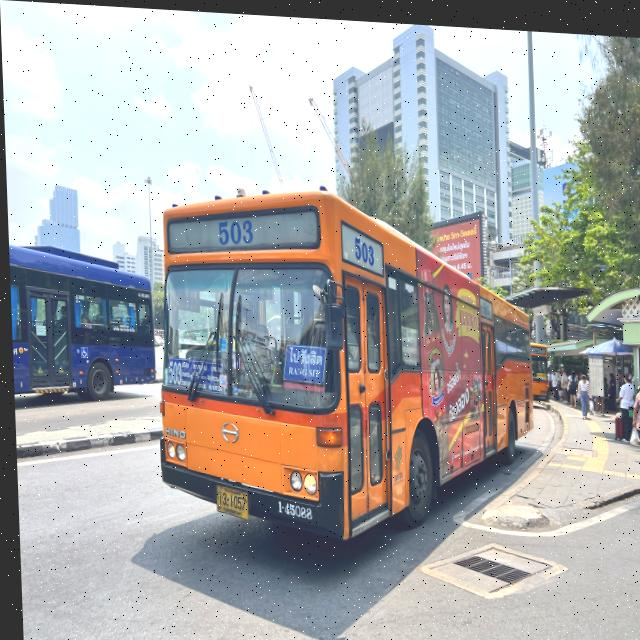BMTA-bus: (147, 179, 536, 549)
Bus-Line-Number: (212, 215, 256, 248)
Destination-Sign-Normal: (279, 342, 324, 382)
TSB-Bus: (7, 244, 158, 405)
